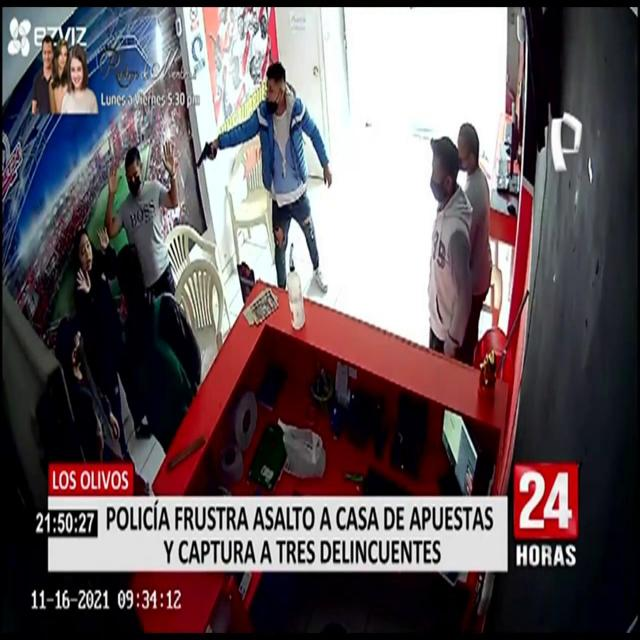gun: (193, 130, 217, 178)
